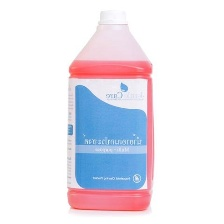cleaning_solution: (64, 3, 159, 213)
